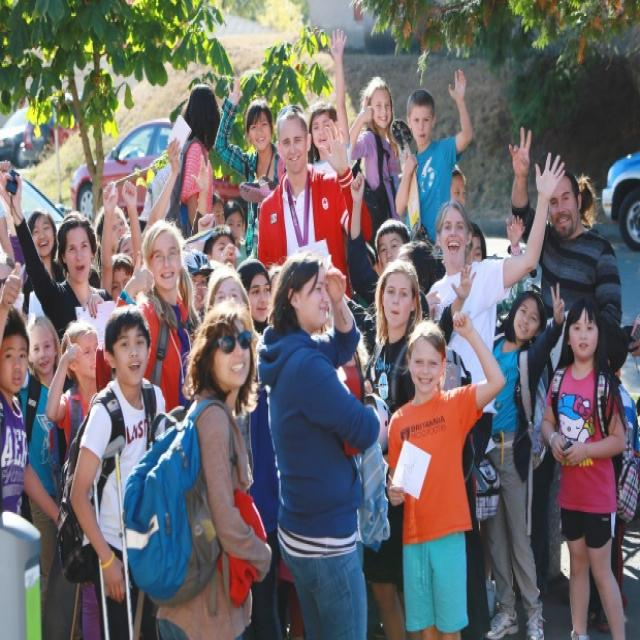body: (0, 156, 605, 342), (424, 151, 567, 640), (507, 124, 624, 604), (116, 294, 274, 638), (342, 253, 480, 640), (254, 248, 383, 640), (383, 304, 509, 639), (53, 300, 174, 638), (537, 292, 639, 638), (482, 279, 571, 640), (255, 103, 375, 301), (95, 215, 203, 424), (0, 164, 116, 343), (44, 320, 104, 640), (0, 259, 62, 532), (393, 66, 475, 248), (17, 313, 64, 627), (213, 74, 286, 266), (348, 74, 409, 247), (172, 83, 222, 234), (307, 24, 353, 174)
